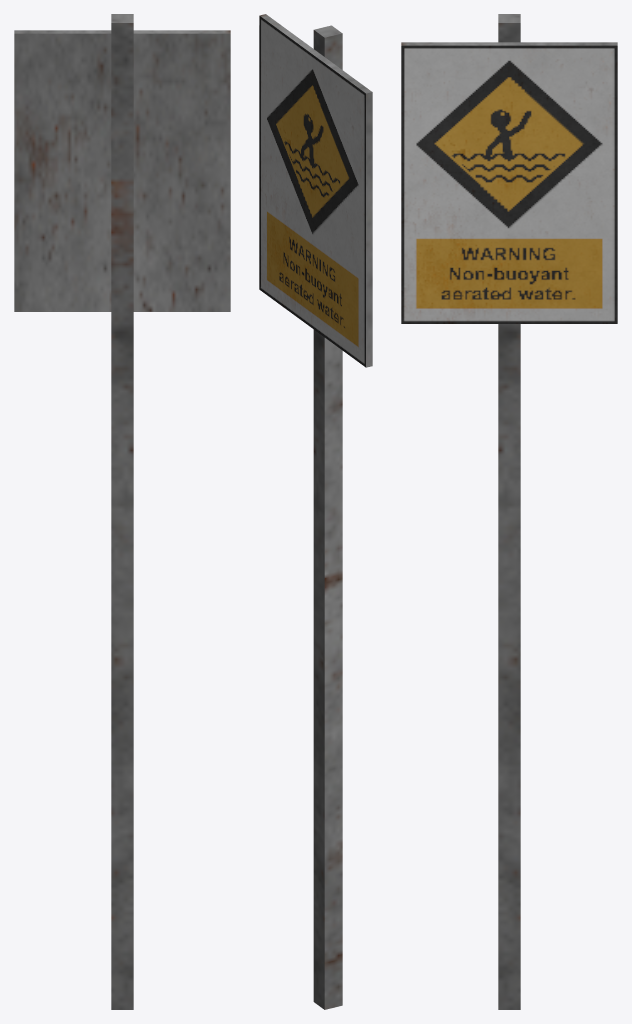
Rendered from Sign_13.fbx.
3 views of the same model, side by side, from view 1: azimuth 90°, elevation 25°; view 2: azimuth 210°, elevation 25°; view 3: azimuth 270°, elevation 25° (orthographic).
Visible parts, largest first — view 1: Sign_13; view 2: Sign_13; view 3: Sign_13.
Boxes of the visible parts, box(x1,y1,x2,y2) form: Sign_13: box(14, 14, 230, 1009); Sign_13: box(259, 14, 372, 1009); Sign_13: box(401, 14, 617, 1009).
Bounding box in the file's own units: 5.76 × 221 × 43.85.
